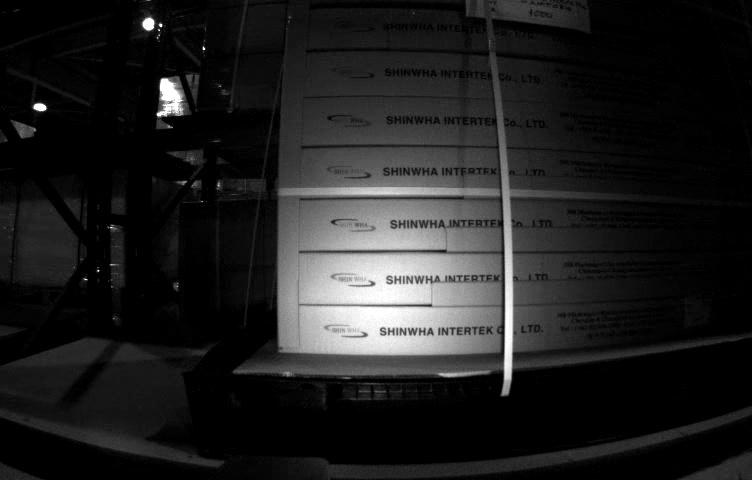True Barcode: (683, 296, 714, 326)
